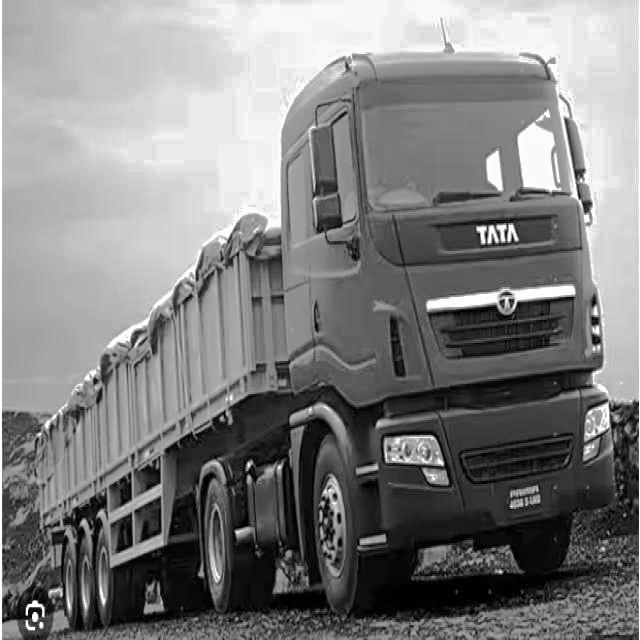HCV: (21, 35, 629, 613)
